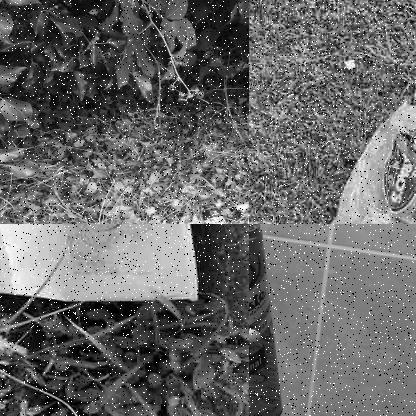glass: (197, 201, 248, 223)
metal: (249, 224, 287, 415)
plastic: (0, 224, 203, 308), (332, 89, 415, 223)
